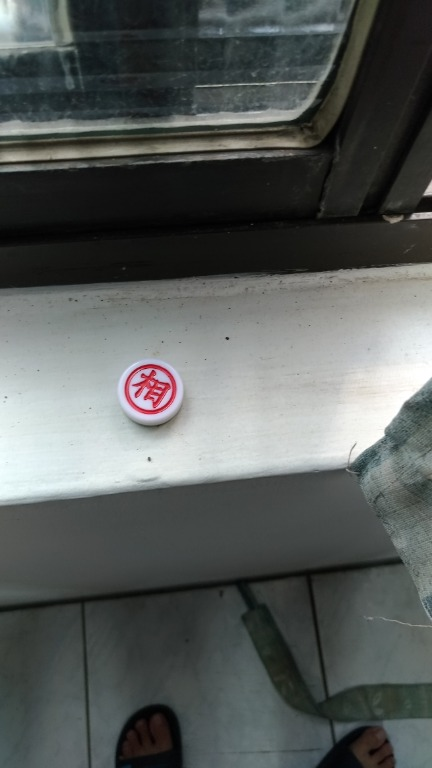r-elephant: (105, 350, 206, 443)
